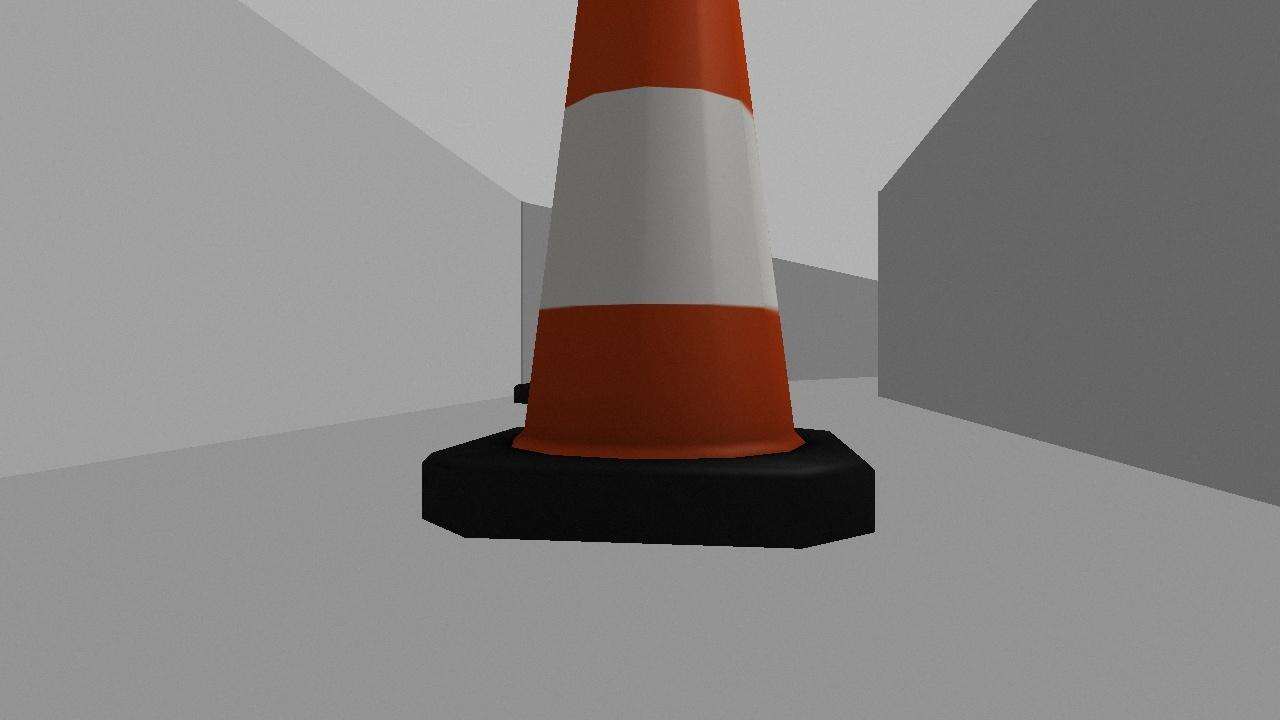cone_barrel: (418, 0, 876, 546)
